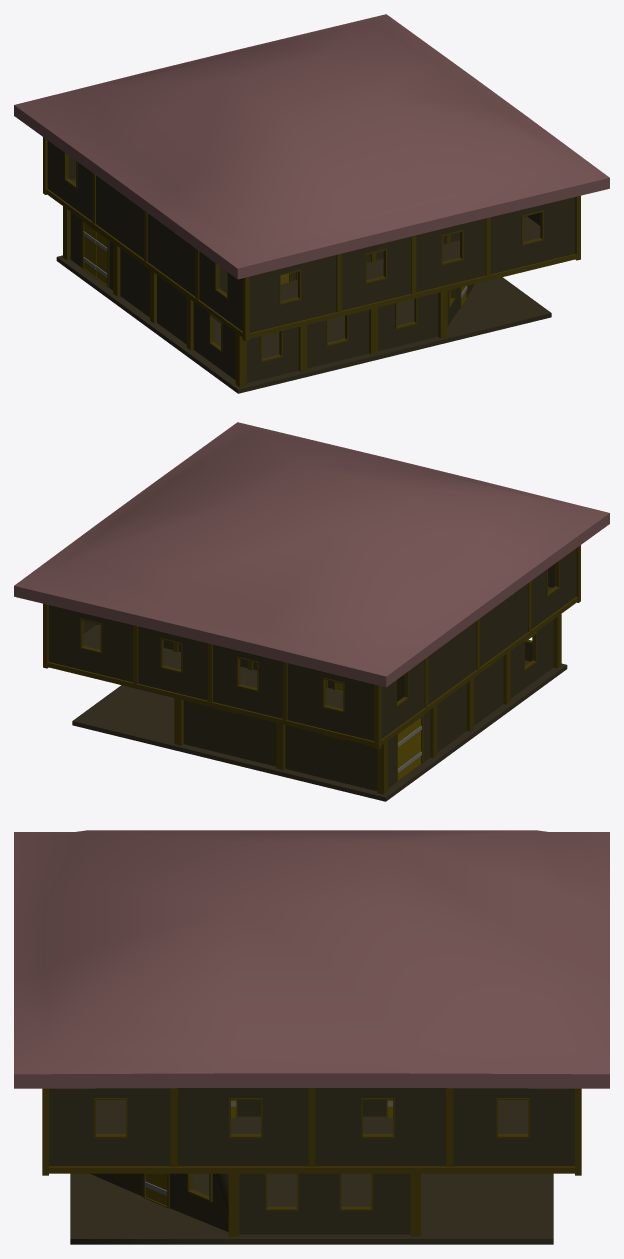
Rendered from Tavern.fbx.
3 views of the same model, one above another, from view 1: azimuth 30°, elevation 25°; view 2: azimuth 150°, elevation 25°; view 3: azimuth 270°, elevation 25° (orthographic). The views are drawn at different scales.
Visible parts, largest first — view 1: Tavern, Door20, Door19; view 2: Tavern, Door19, Door20; view 3: Tavern, Door.
Part boxes in pixels (box(x1,y1,x2,y2)): Tavern: box(14, 14, 609, 393); Door20: box(83, 223, 96, 276); Door19: box(95, 232, 107, 284); Tavern: box(14, 422, 609, 801); Door19: box(409, 718, 421, 771); Door20: box(398, 726, 409, 779); Tavern: box(14, 830, 609, 1244); Door: box(145, 1173, 167, 1205).
Bounding box in the file's own units: 49.9 × 25.8 × 51.89.
